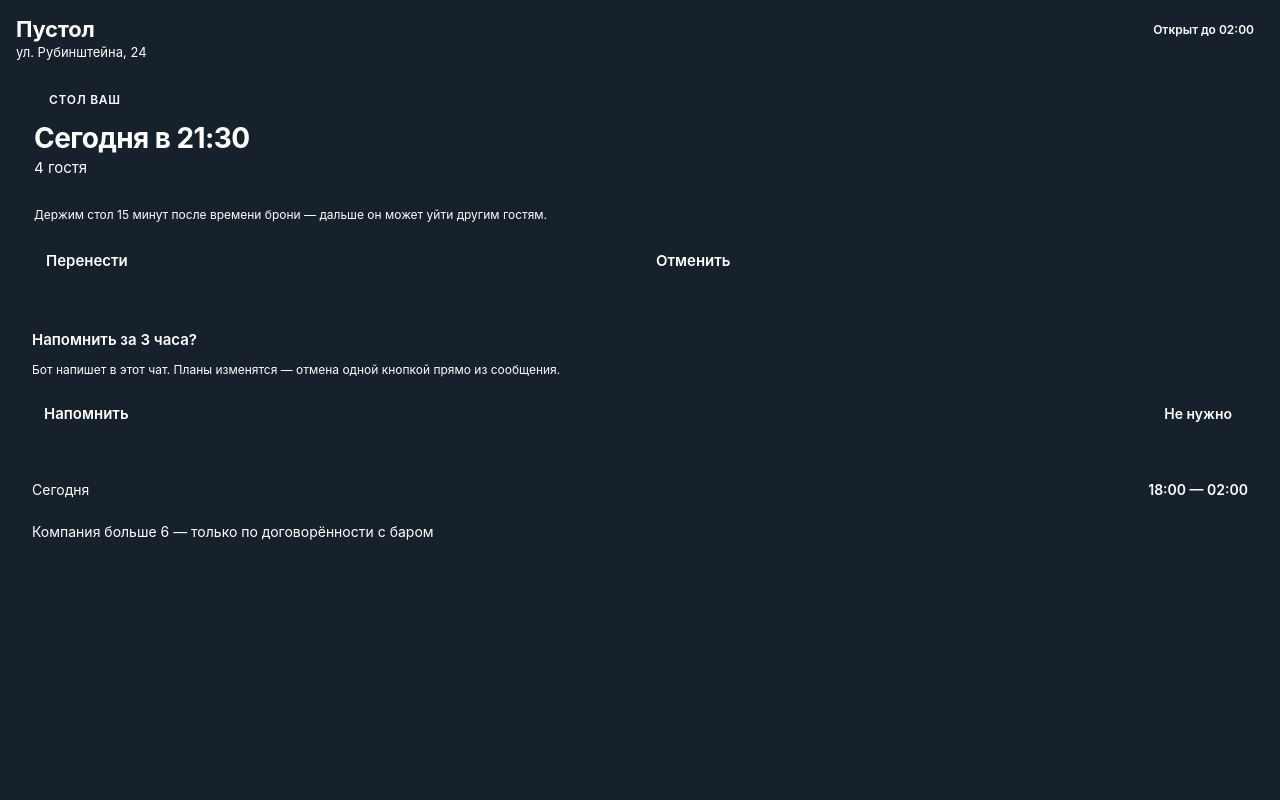
Test case: the first paint › shuts at once when the session ends while a read of it asked before is still on its way
Expected: the text "Стол ваш" is shown, [49,92,121,107]
Click the button "Отменить" at coordinates (693, 260), box [644,238,742,282]
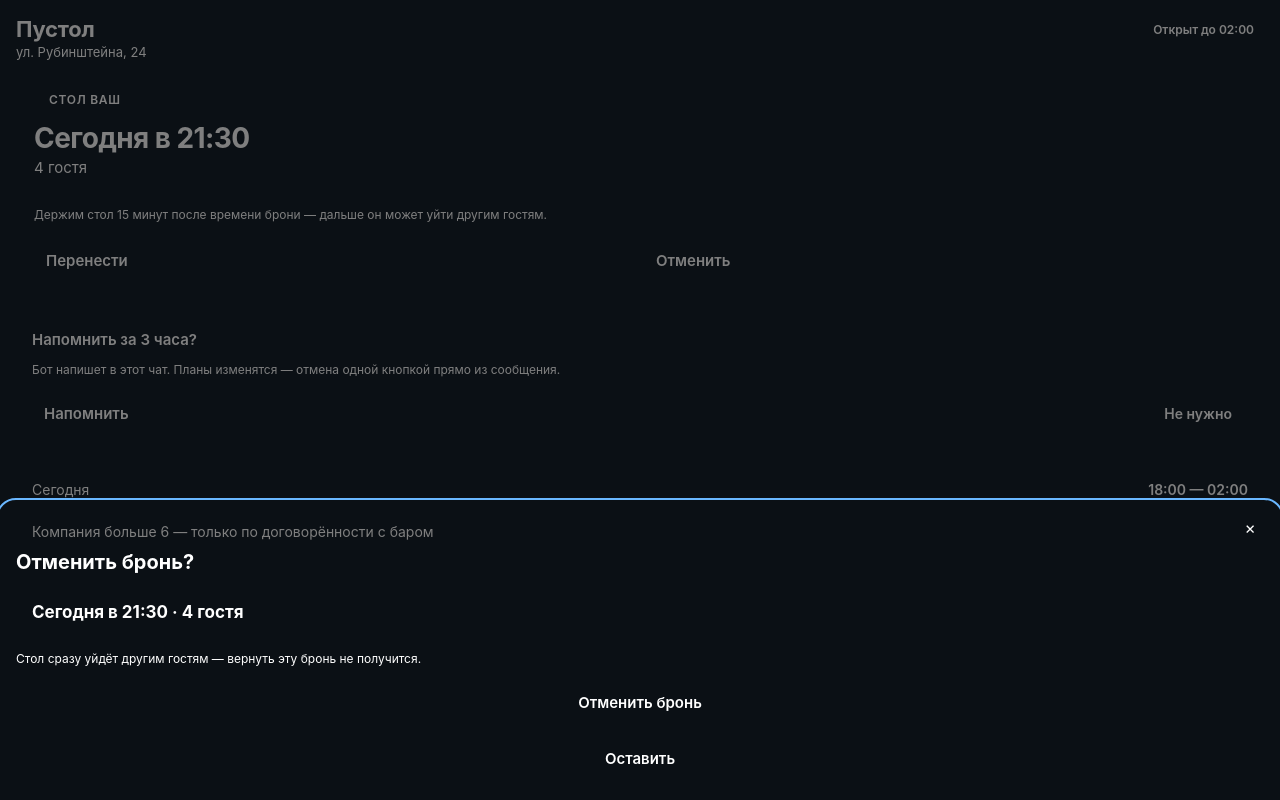
Click the button "Отменить бронь" at coordinates (640, 702), box [16,680,1264,724]
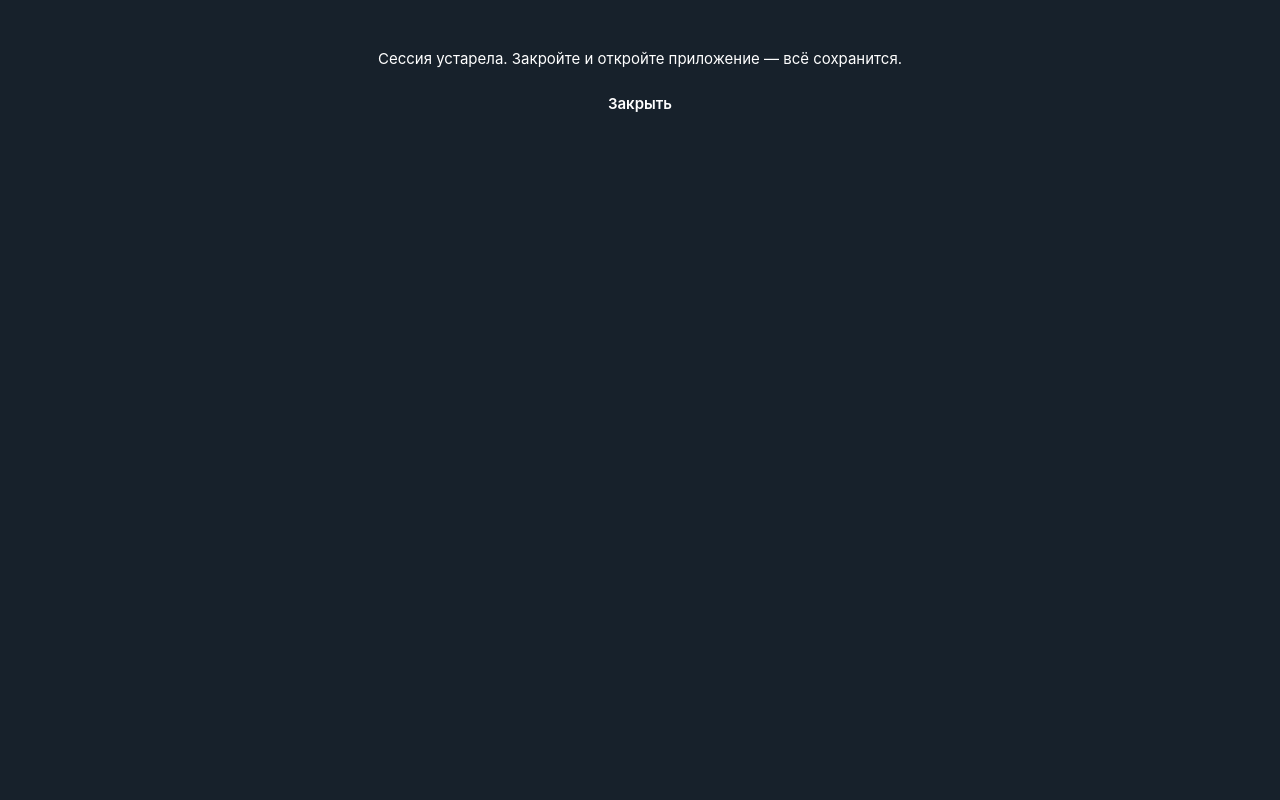
Now the text "Сессия устарела. Закройте и откройте приложение — всё сохранится." is shown, box [378,48,902,70]
